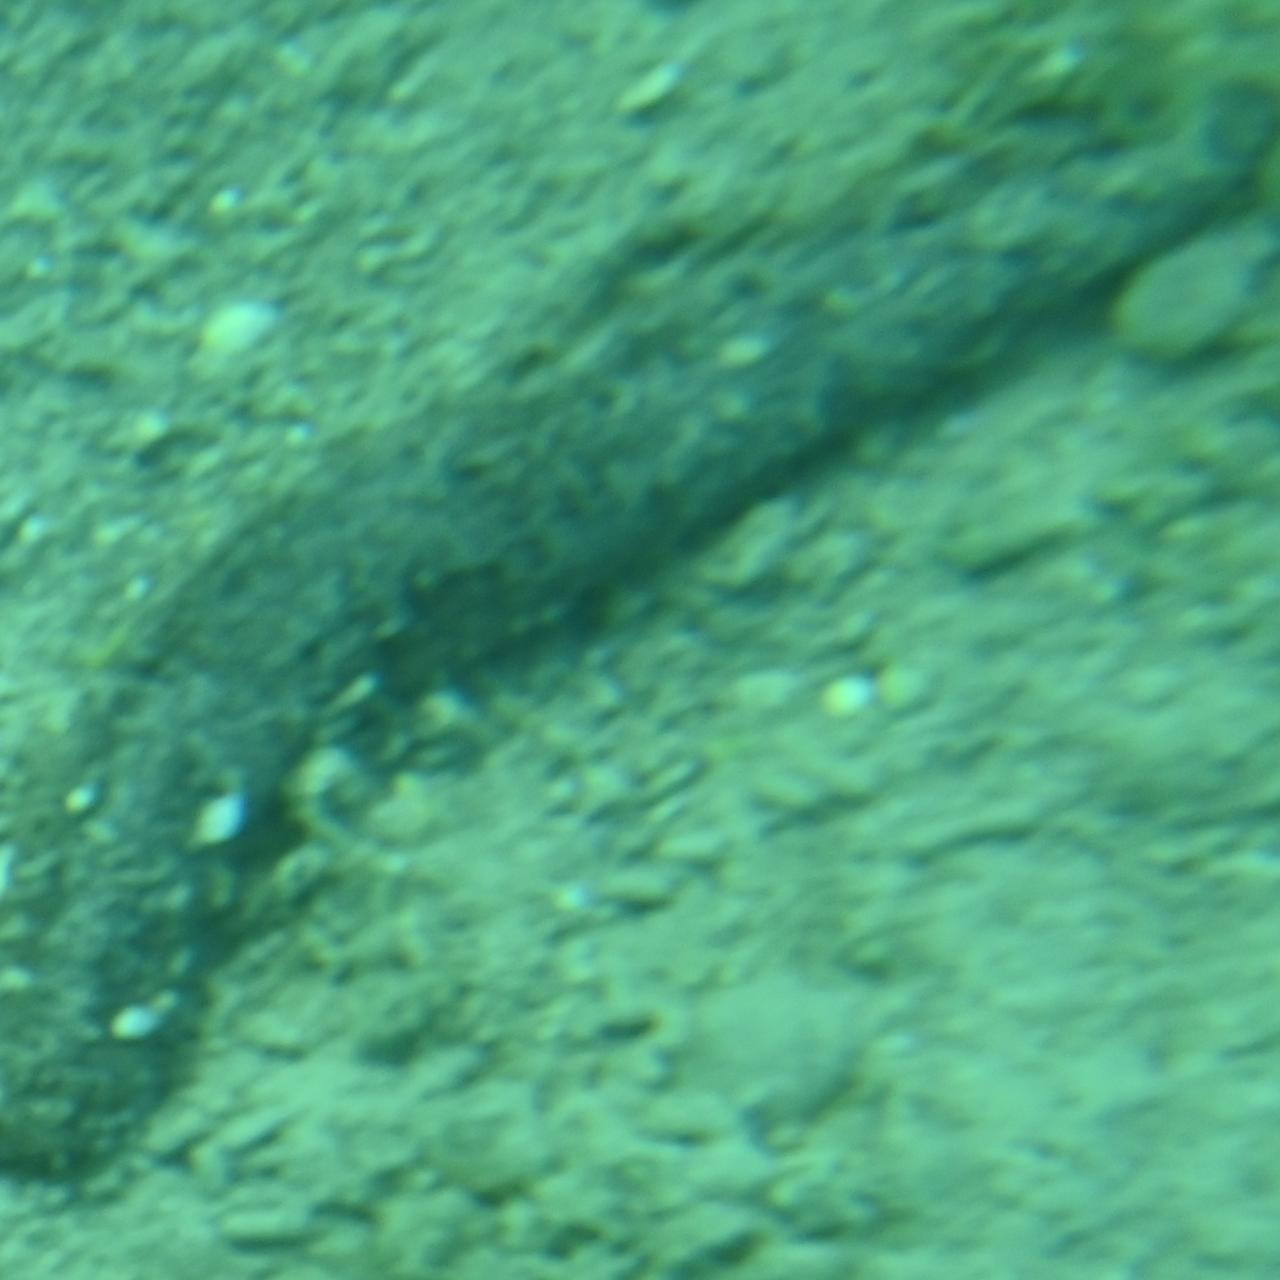Holothuria tubulosa: (0, 68, 1280, 1212)
